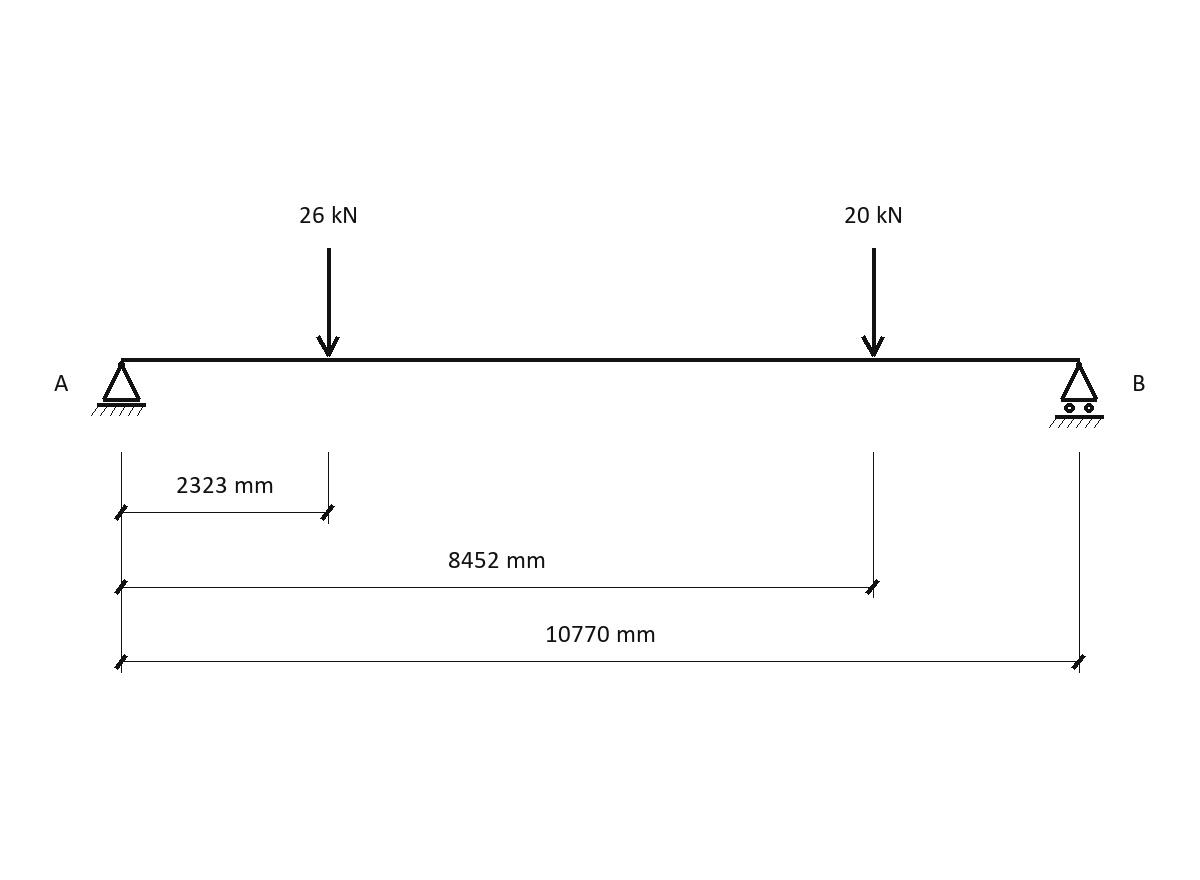pin_support: (91, 361, 146, 416)
point_load: (316, 248, 340, 357), (861, 248, 885, 357)
roller_support: (1049, 361, 1104, 428)
